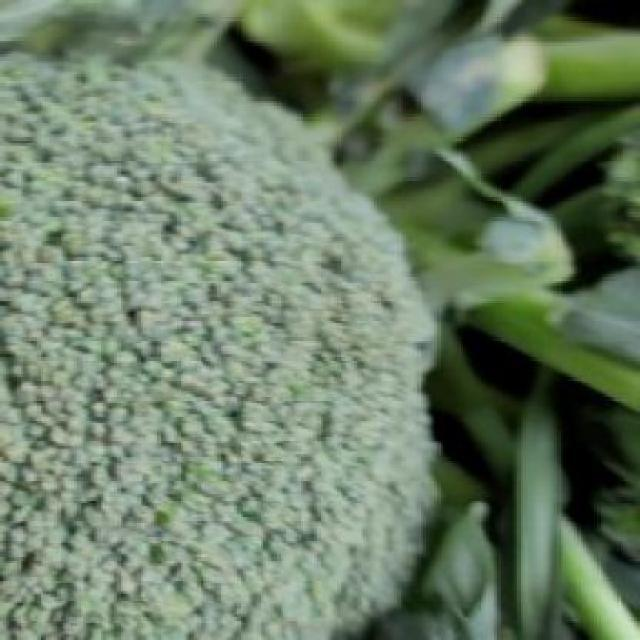broccoli: (1, 52, 422, 638)
